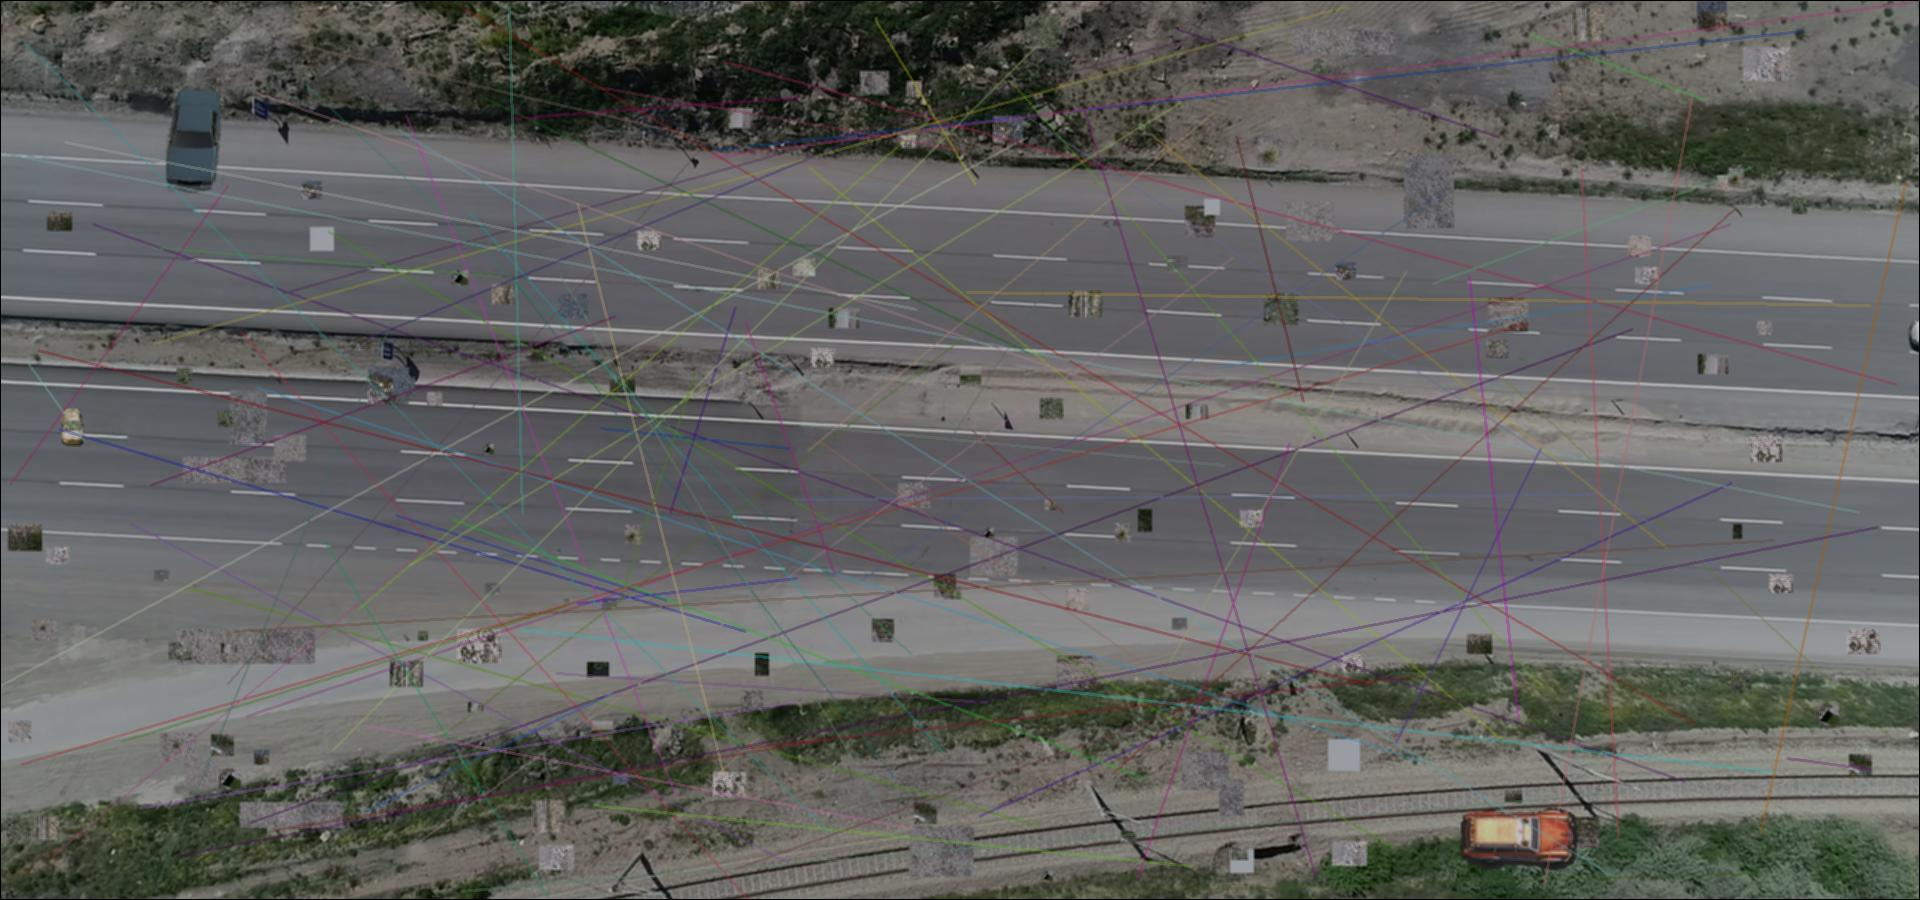arac: (1460, 807, 1584, 869), (167, 88, 224, 193), (61, 408, 84, 448)
